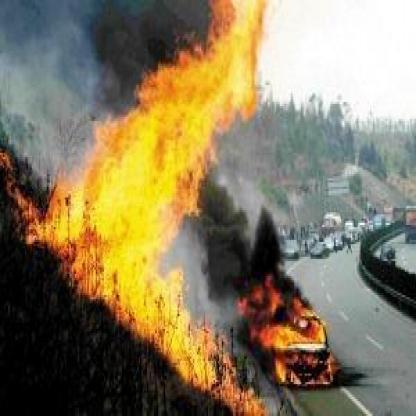fire: (8, 3, 260, 410), (240, 271, 333, 393)
smoke: (70, 1, 206, 91), (198, 167, 282, 304)
